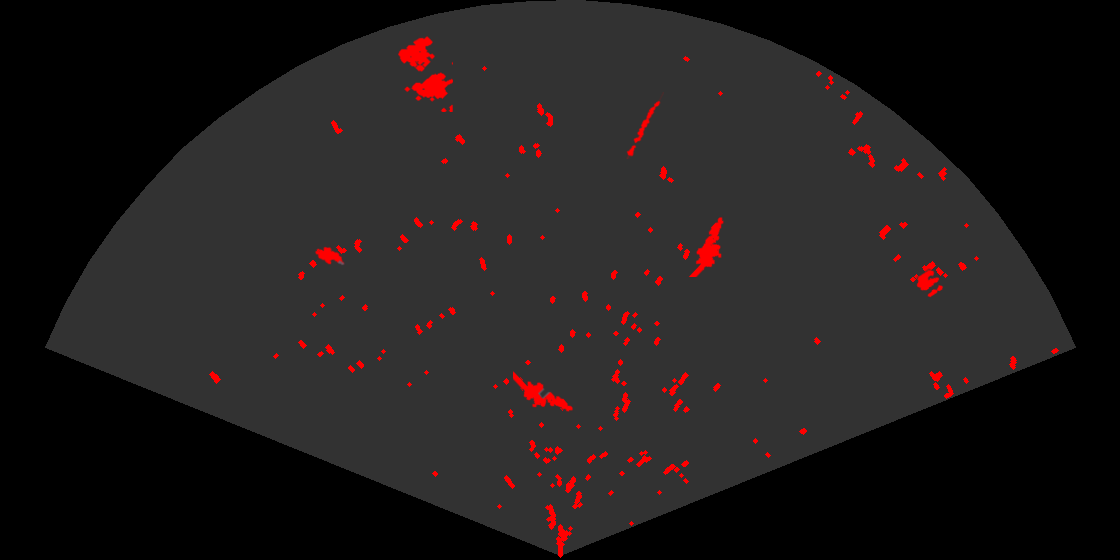AUV: (313, 245, 346, 266)
ball: (915, 268, 945, 299)
cage: (397, 35, 453, 112)
chain: (625, 92, 664, 159)
frogman: (513, 370, 575, 413), (687, 215, 725, 277)
